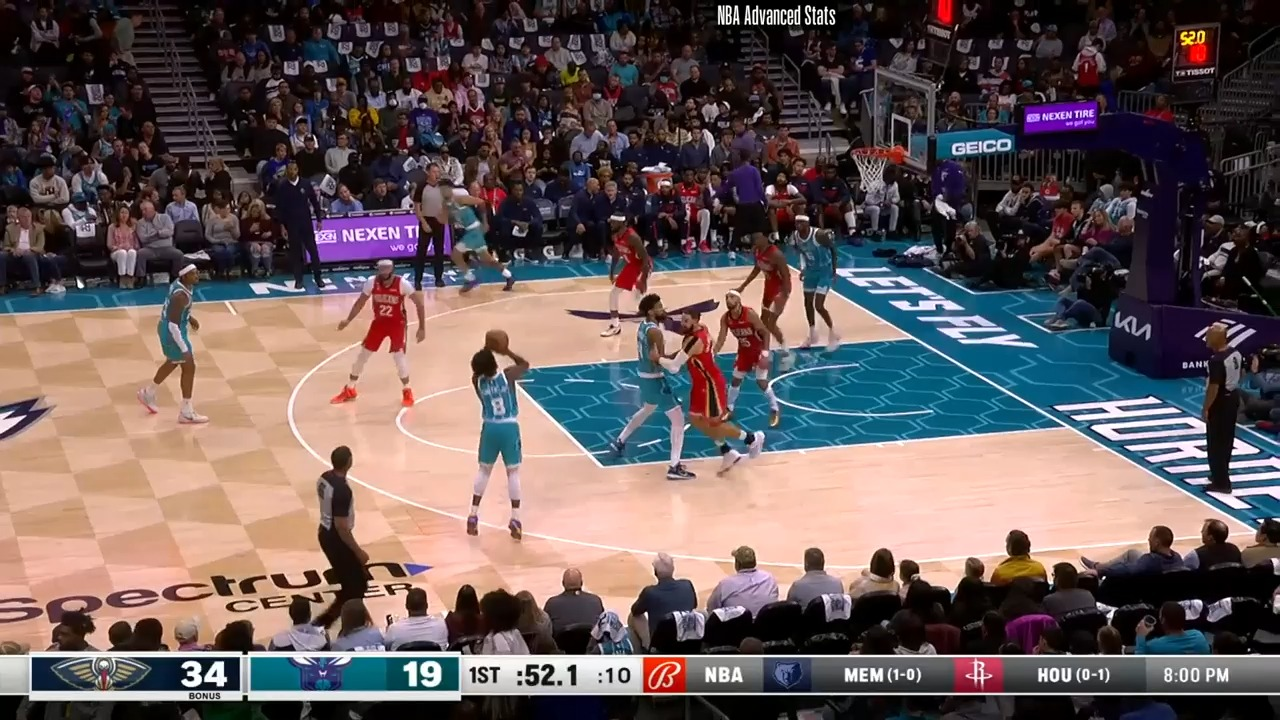net: (848, 142, 908, 193)
player: (647, 306, 768, 478), (467, 333, 542, 545), (609, 293, 695, 476), (333, 255, 433, 409), (705, 285, 786, 446), (137, 262, 212, 428), (435, 180, 517, 297), (737, 226, 796, 373), (791, 211, 844, 355), (600, 222, 660, 342)
referee: (299, 445, 377, 600), (412, 164, 472, 298), (1206, 319, 1248, 496)
